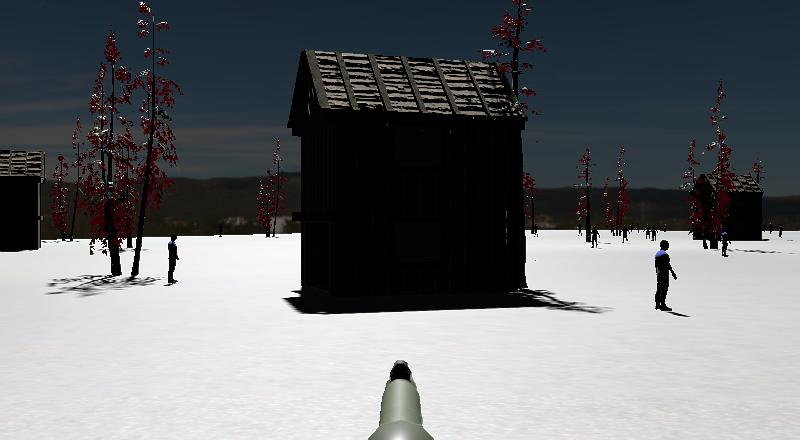House: (255, 31, 557, 333), (686, 158, 775, 258), (0, 132, 62, 272)
Human: (640, 230, 688, 322), (159, 227, 190, 291), (584, 222, 605, 253), (616, 220, 635, 247), (643, 219, 661, 243)
